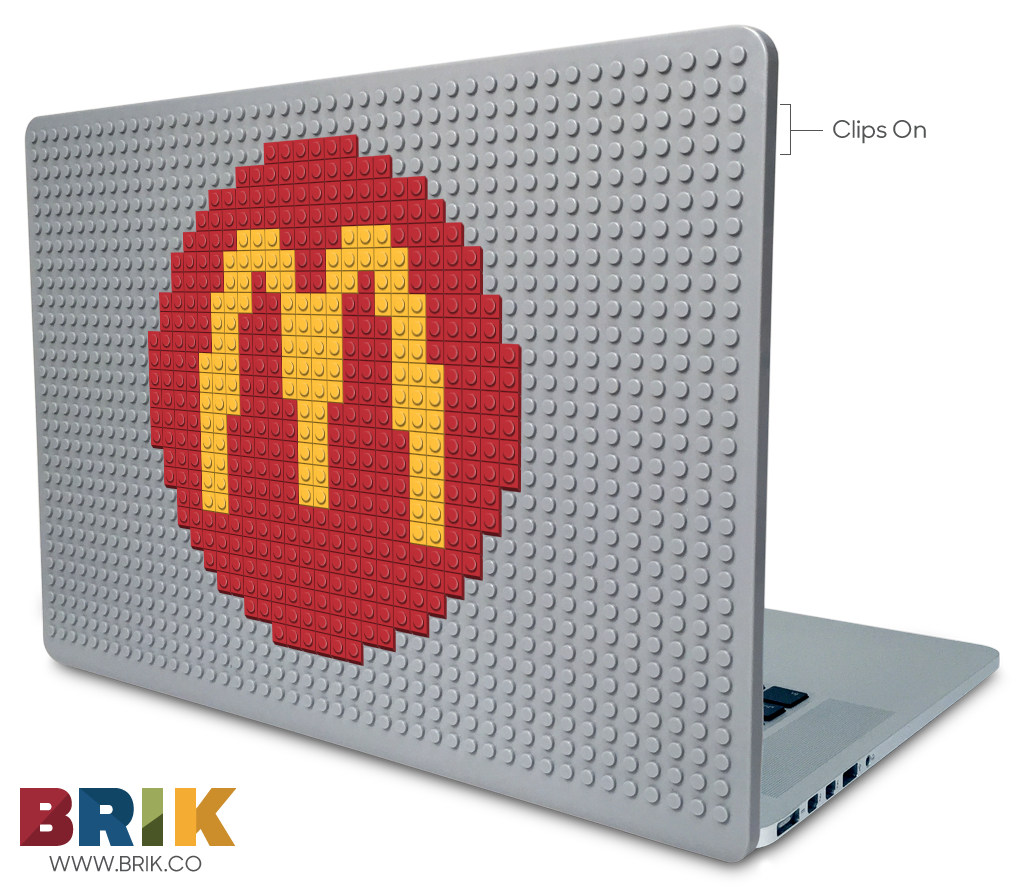mcdonalds: (190, 218, 449, 537)
